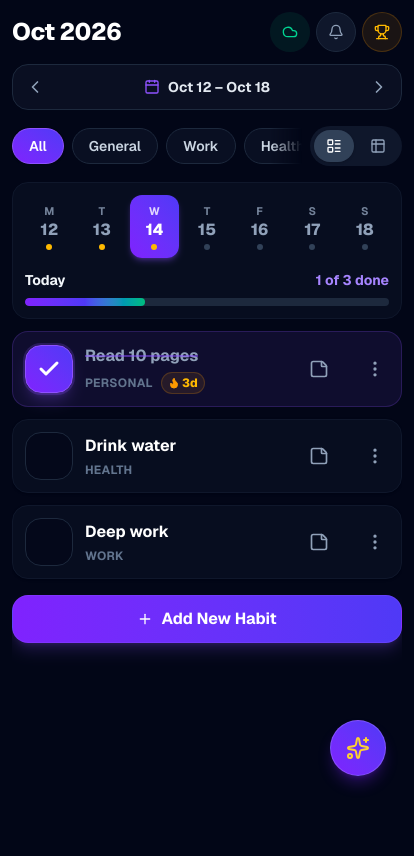
Test: Weekly Tracker › rolls back and shows an error when the save fails
Click the button named "Drink water, 2026-10-14": {"x": 49, "y": 456} [25,432,73,480]
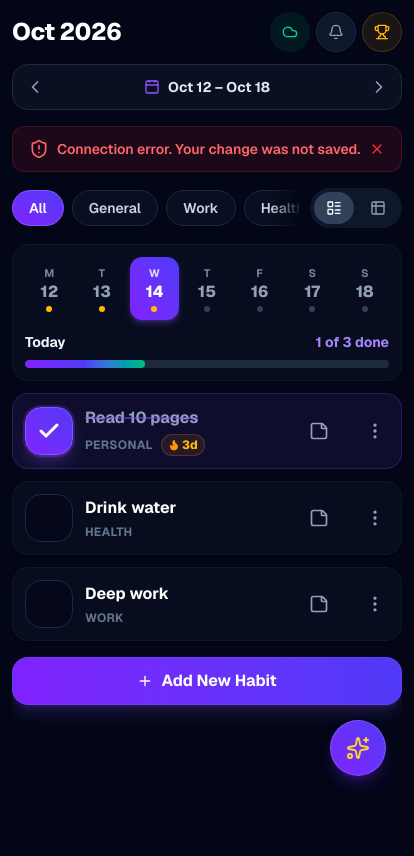
Now the text "Connection error. Your change was not saved." is shown, box [57,139,360,159]
